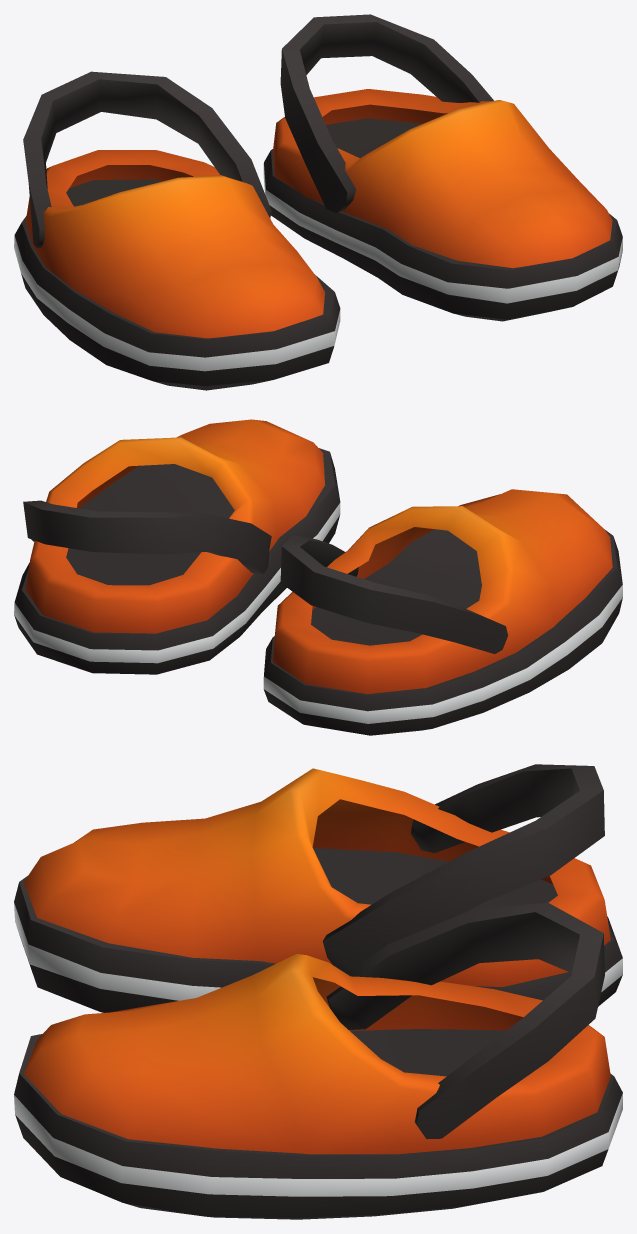
Rendered from Shoe_Slippers_06.glb.
The picture shows the model from 3 angles, top to bottom: view 1: azimuth 30°, elevation 25°; view 2: azimuth 150°, elevation 25°; view 3: azimuth 270°, elevation 25°; orthographic projection. The views are drawn at different scales.
Visible parts, largest first — view 1: Shoe_Slippers_06; view 2: Shoe_Slippers_06; view 3: Shoe_Slippers_06.
Part boxes in pixels (x1,y1,x2,y2): Shoe_Slippers_06: (14,14,622,390); Shoe_Slippers_06: (14,419,622,735); Shoe_Slippers_06: (14,764,622,1219).
Bounding box in the file's own units: 0.2577 × 0.0797 × 0.2064.
Materials: 1 (1 with a texture image).
